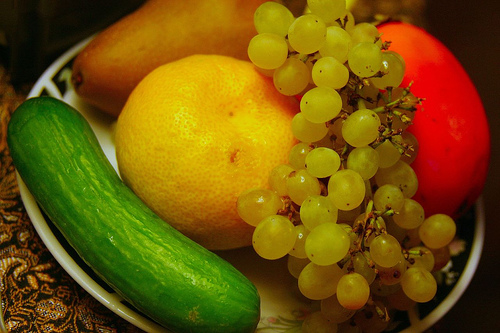cucumber: (5, 96, 259, 332)
